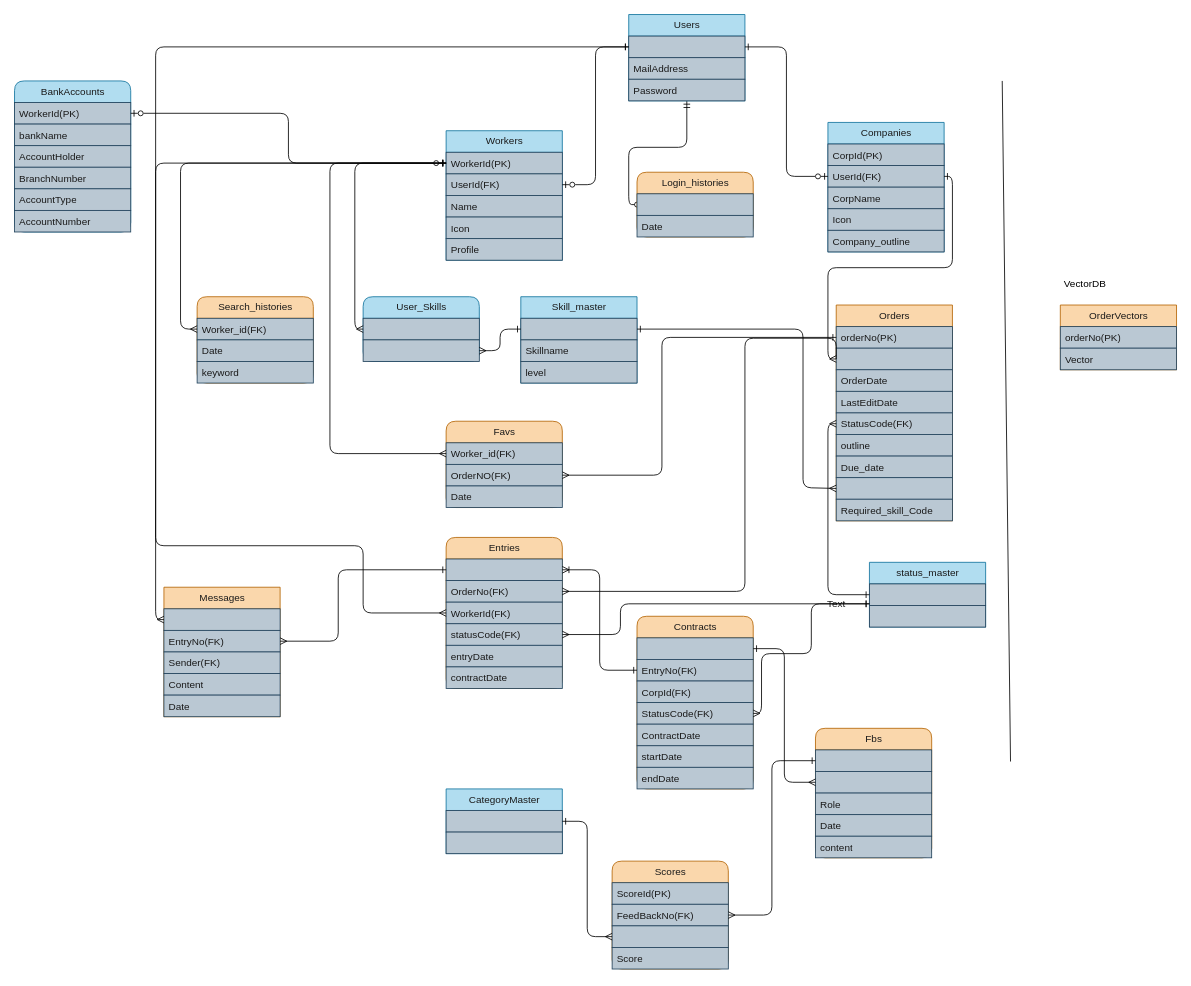
The diagram is 1191 pixels wide and 986 high, and some of its shapes have lost their labels. The centre of each missing label's shape, as x and y in pixels:
"CategoryName" belongs at [503,842].
"ContactNo(FK)" belongs at [873,782].
"contractNo(PK)" belongs at [694,648].
"EntryNo(PK)" belongs at [503,569].
"FeedBackNo(PK)" belongs at [873,760].
"MessageId(PK)" belongs at [221,619].
"orderby(FK)" belongs at [893,358].
"pay" belongs at [893,488].
"ScoreCategoryCode(FK)" belongs at [669,936].
"ScoreCategoryCode(PK)" belongs at [503,821].
"SkillCode(FK)" belongs at [420,350].
"SkillCode(PK)" belongs at [578,328].
"status" belongs at [927,616].
"statusCode(PK)" belongs at [927,594].
"User_id(FK)" belongs at [694,204].
"UserId(PK)" belongs at [686,46].
"WorkerId" belongs at [420,328].
